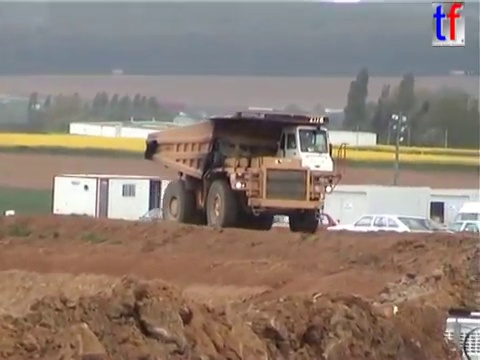truck: (141, 108, 348, 240), (441, 305, 480, 360)
